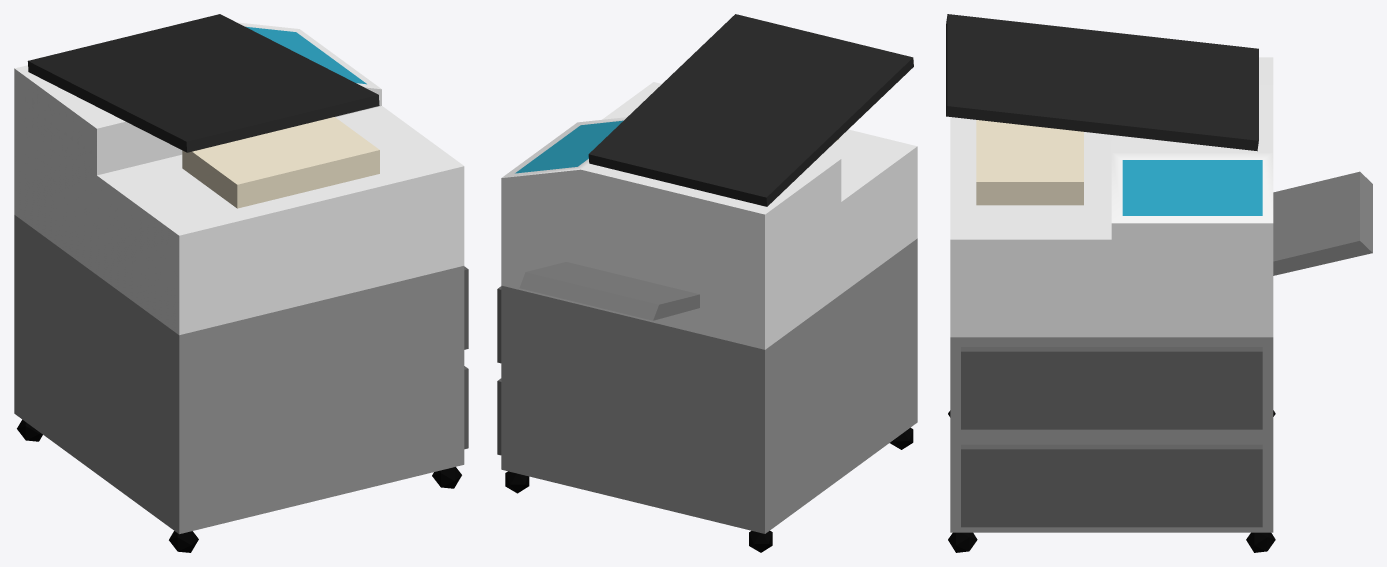
File: Printer.fbx
3 views of the same model, side by side, from view 1: azimuth 30°, elevation 25°; view 2: azimuth 150°, elevation 25°; view 3: azimuth 270°, elevation 25° (orthographic). The views are drawn at different scales.
Parts seen in each view (by area): view 1: pCube5; view 2: pCube5; view 3: pCube5.
Boxes of the visible parts, box(x1,y1,x2,y2) form: pCube5: box(14, 14, 468, 552); pCube5: box(497, 14, 917, 552); pCube5: box(946, 14, 1372, 552).
Size of the model in its own units: 62.15 by 83.73 by 79.25.
